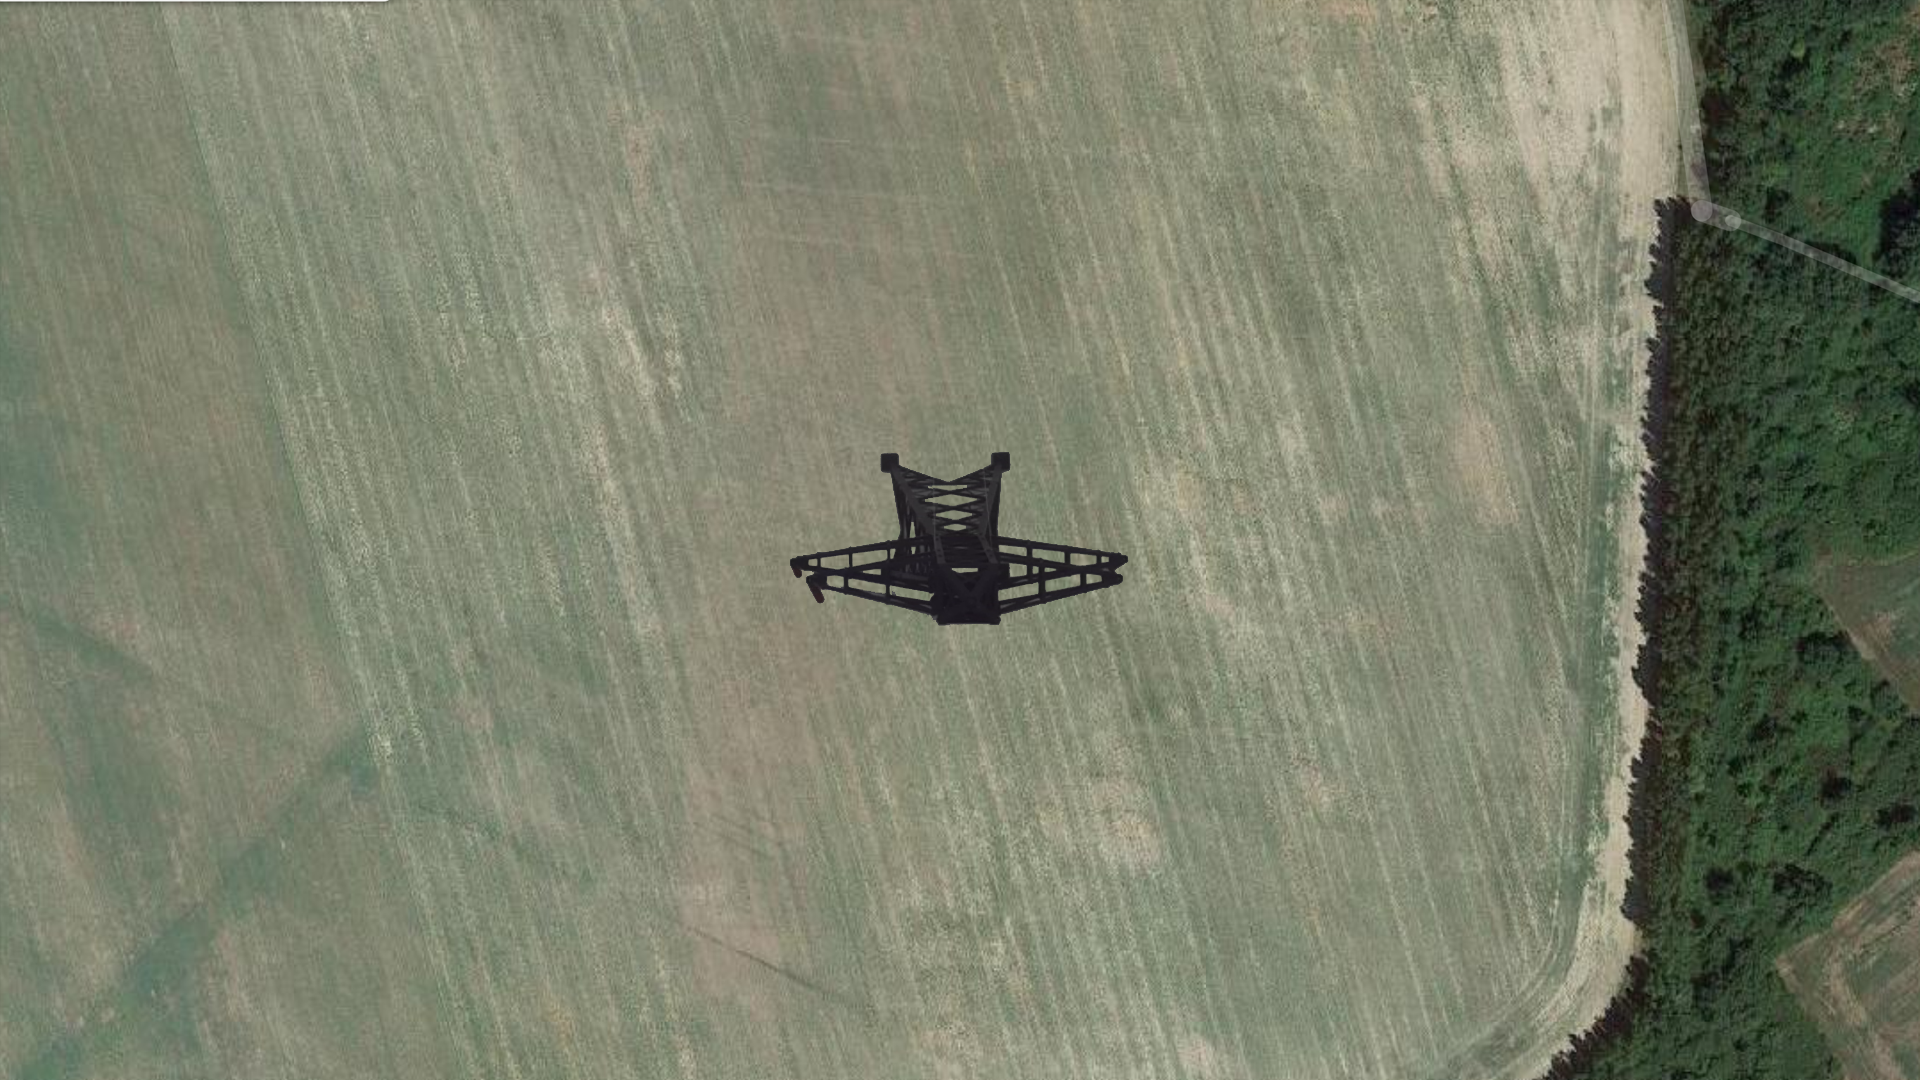pylon_phy: (803, 568, 1124, 626)
